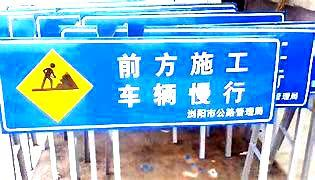sign: (1, 38, 276, 124)
